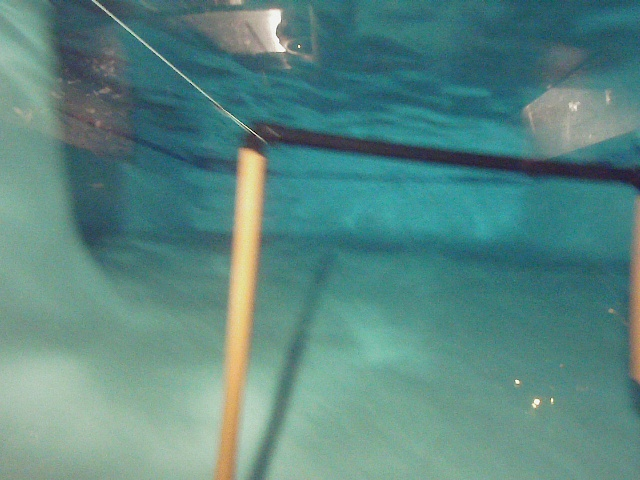Gate: (203, 152, 272, 480), (621, 183, 640, 396)
